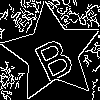B: (27, 28, 78, 84)
